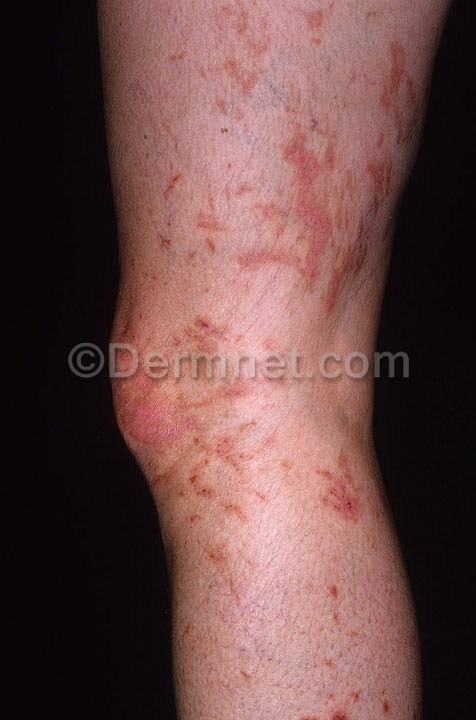Melasma: (196, 3, 445, 325), (113, 376, 424, 556)
